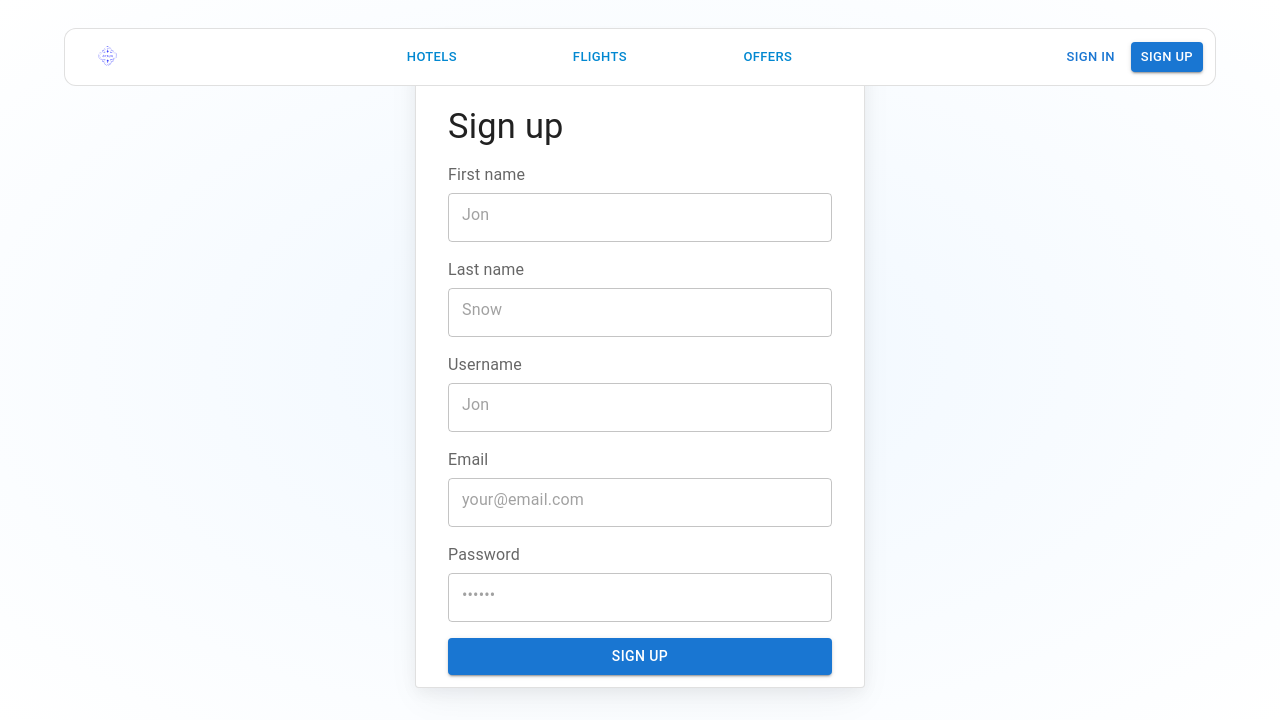
it: User Sign Up › should display an error for password mismatch or weakness
Enter weak or mismatched password
Type "Eva" into the field named "firstname" at (640, 215), box [448,187,832,243]
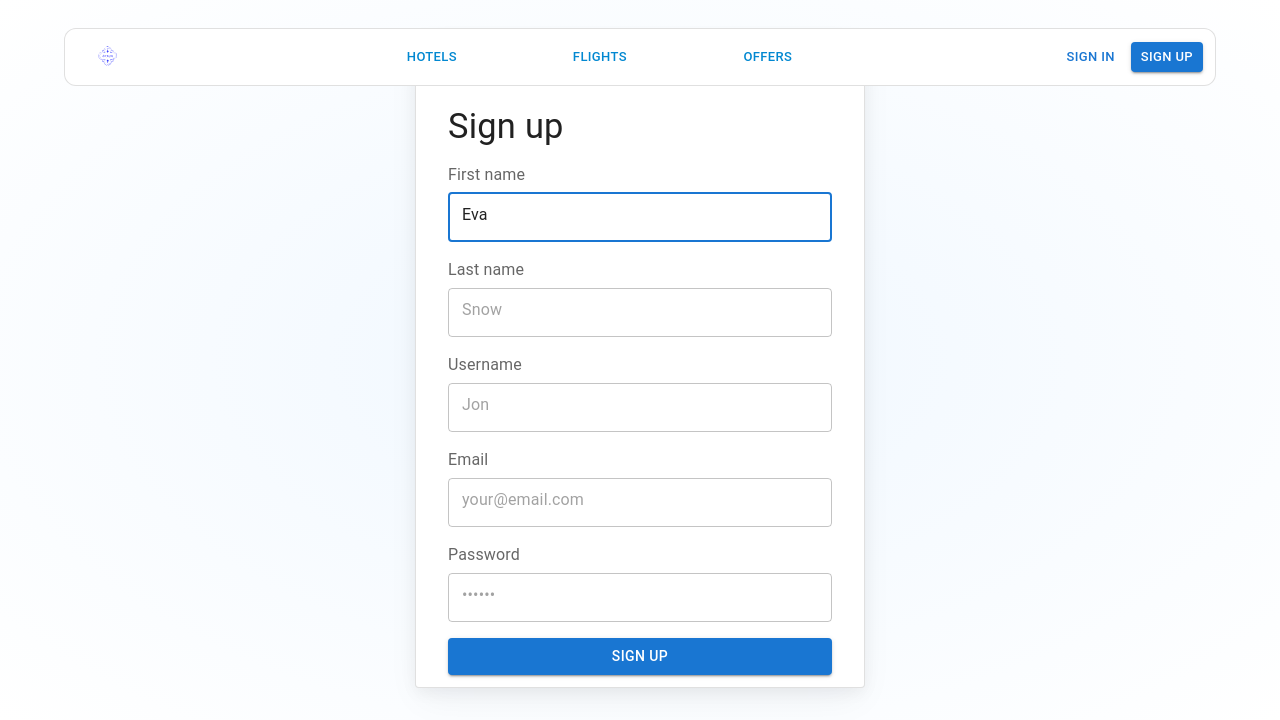
Type "Elfie" into the field named "lastname" at (640, 310), box [448,282,832,338]
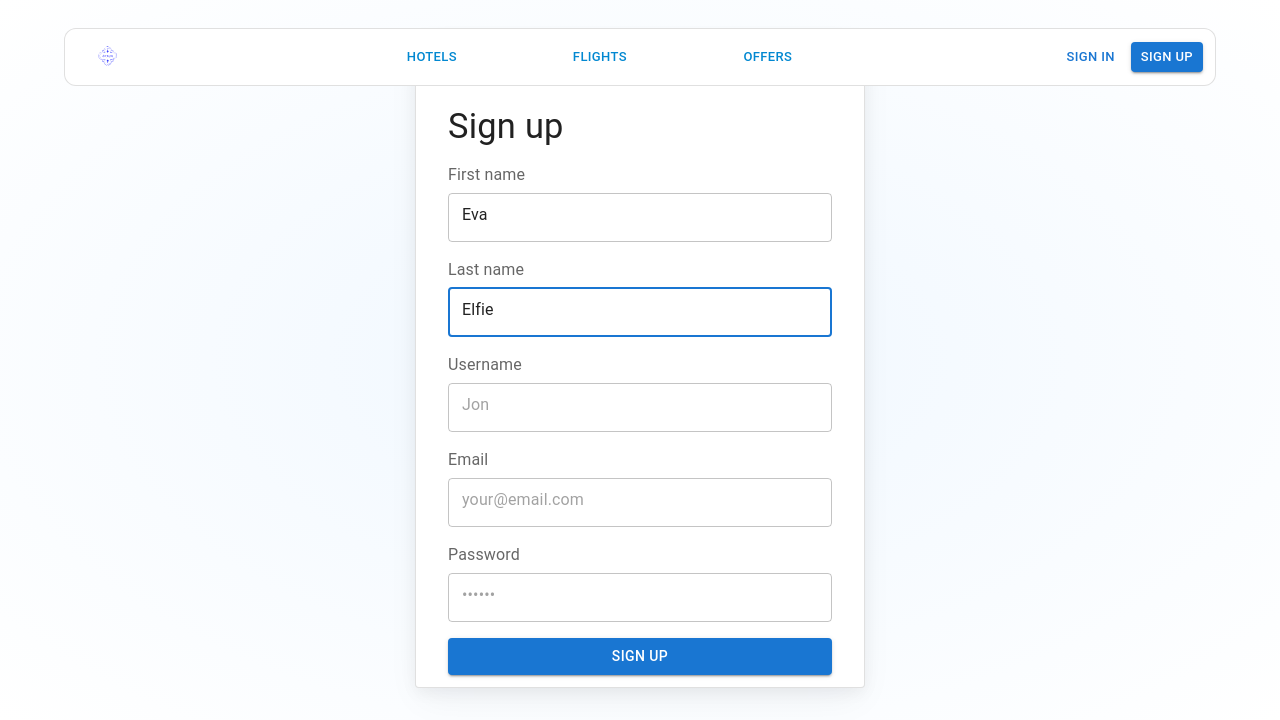
Type "Eva_Elfie" into the field named "pseudo" at (640, 405), box [448,377,832,433]
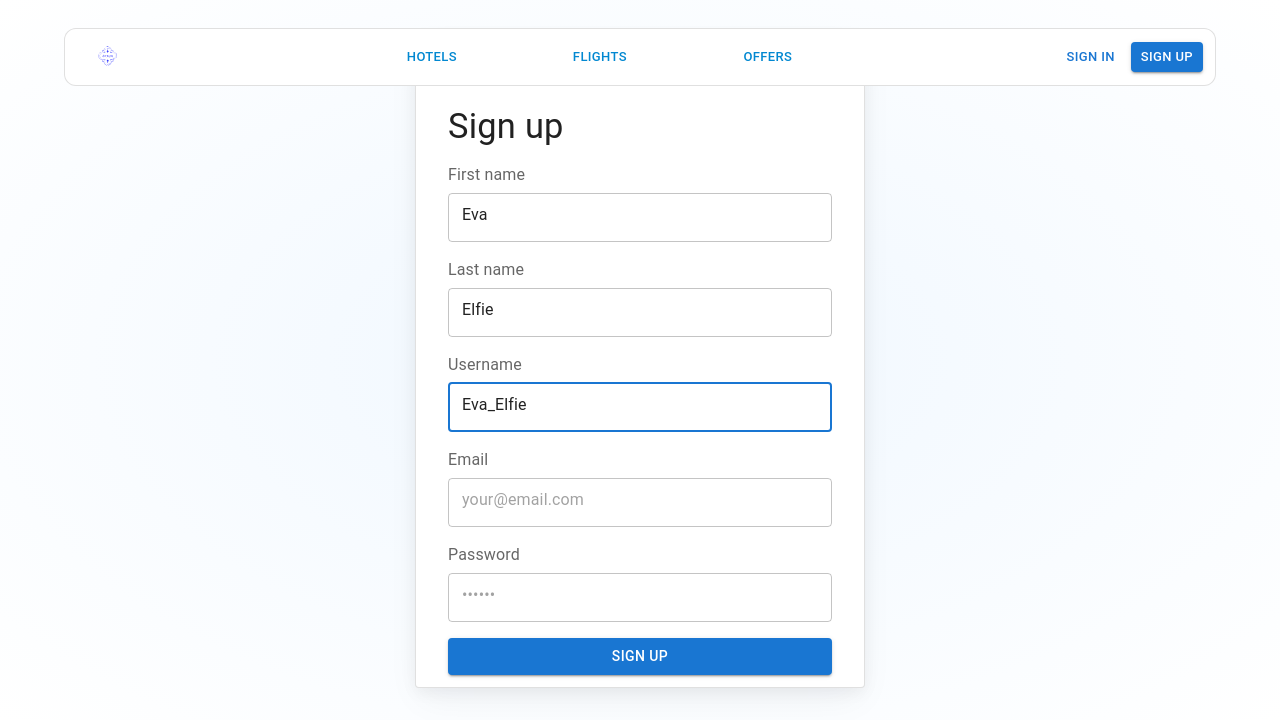
Type "Eva@example.com" into the field named "email" at (640, 500), box [448,472,832,528]
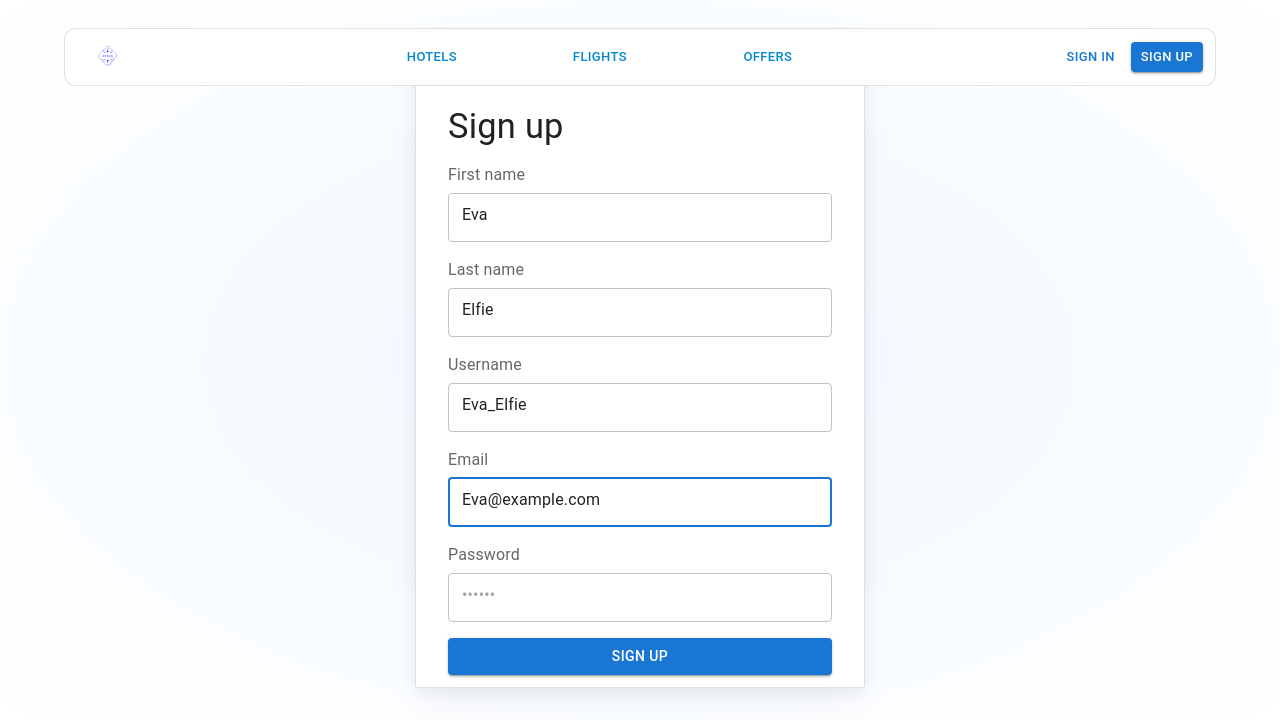
Type "Eva1." into the password field named "password" at (640, 595), box [448,567,832,623]
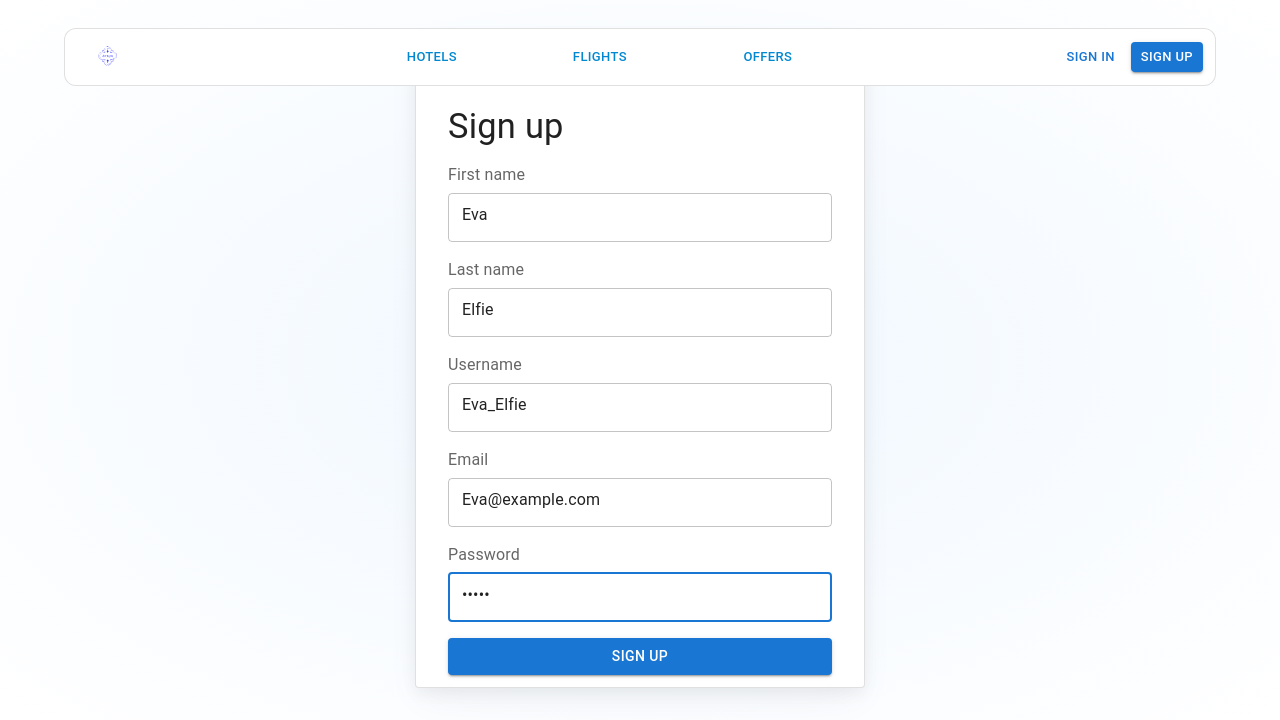
Submit the form
Click the submit button at (640, 658), box [448,639,832,676]
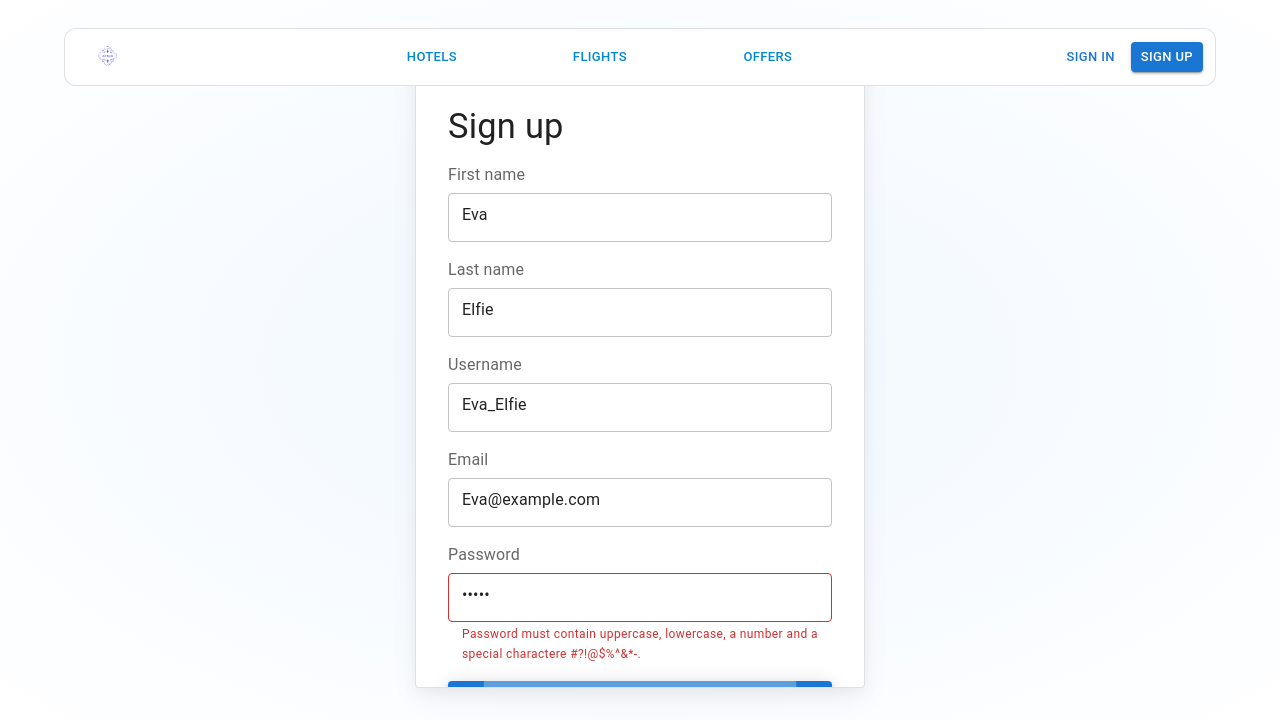
Expected: the text "Password must contain uppercase, lowercase, a number and a special charactere #?!@$%^&*-." is shown, [462,627,818,661]
